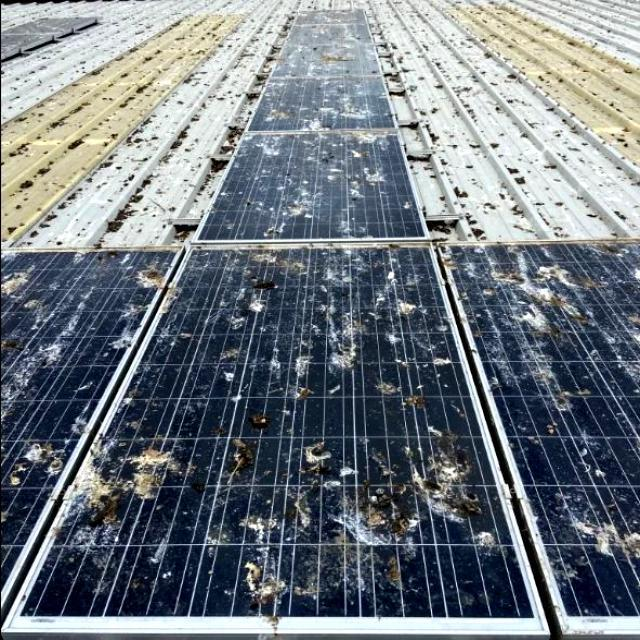soiled: (2, 248, 640, 640), (194, 9, 440, 242)
